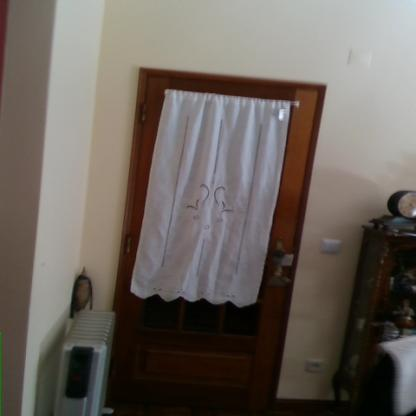closed: (99, 62, 341, 412)
